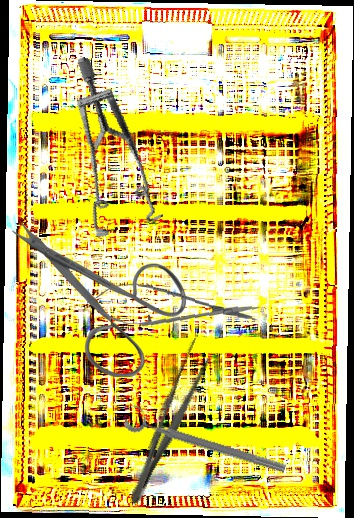Dressing Forceps: (120, 334, 217, 510)
Fixation Ring: (122, 402, 291, 478)
Iris Scissors: (9, 221, 186, 377)
Micro Scissor: (85, 280, 262, 335)
Speculum: (26, 55, 203, 255)
